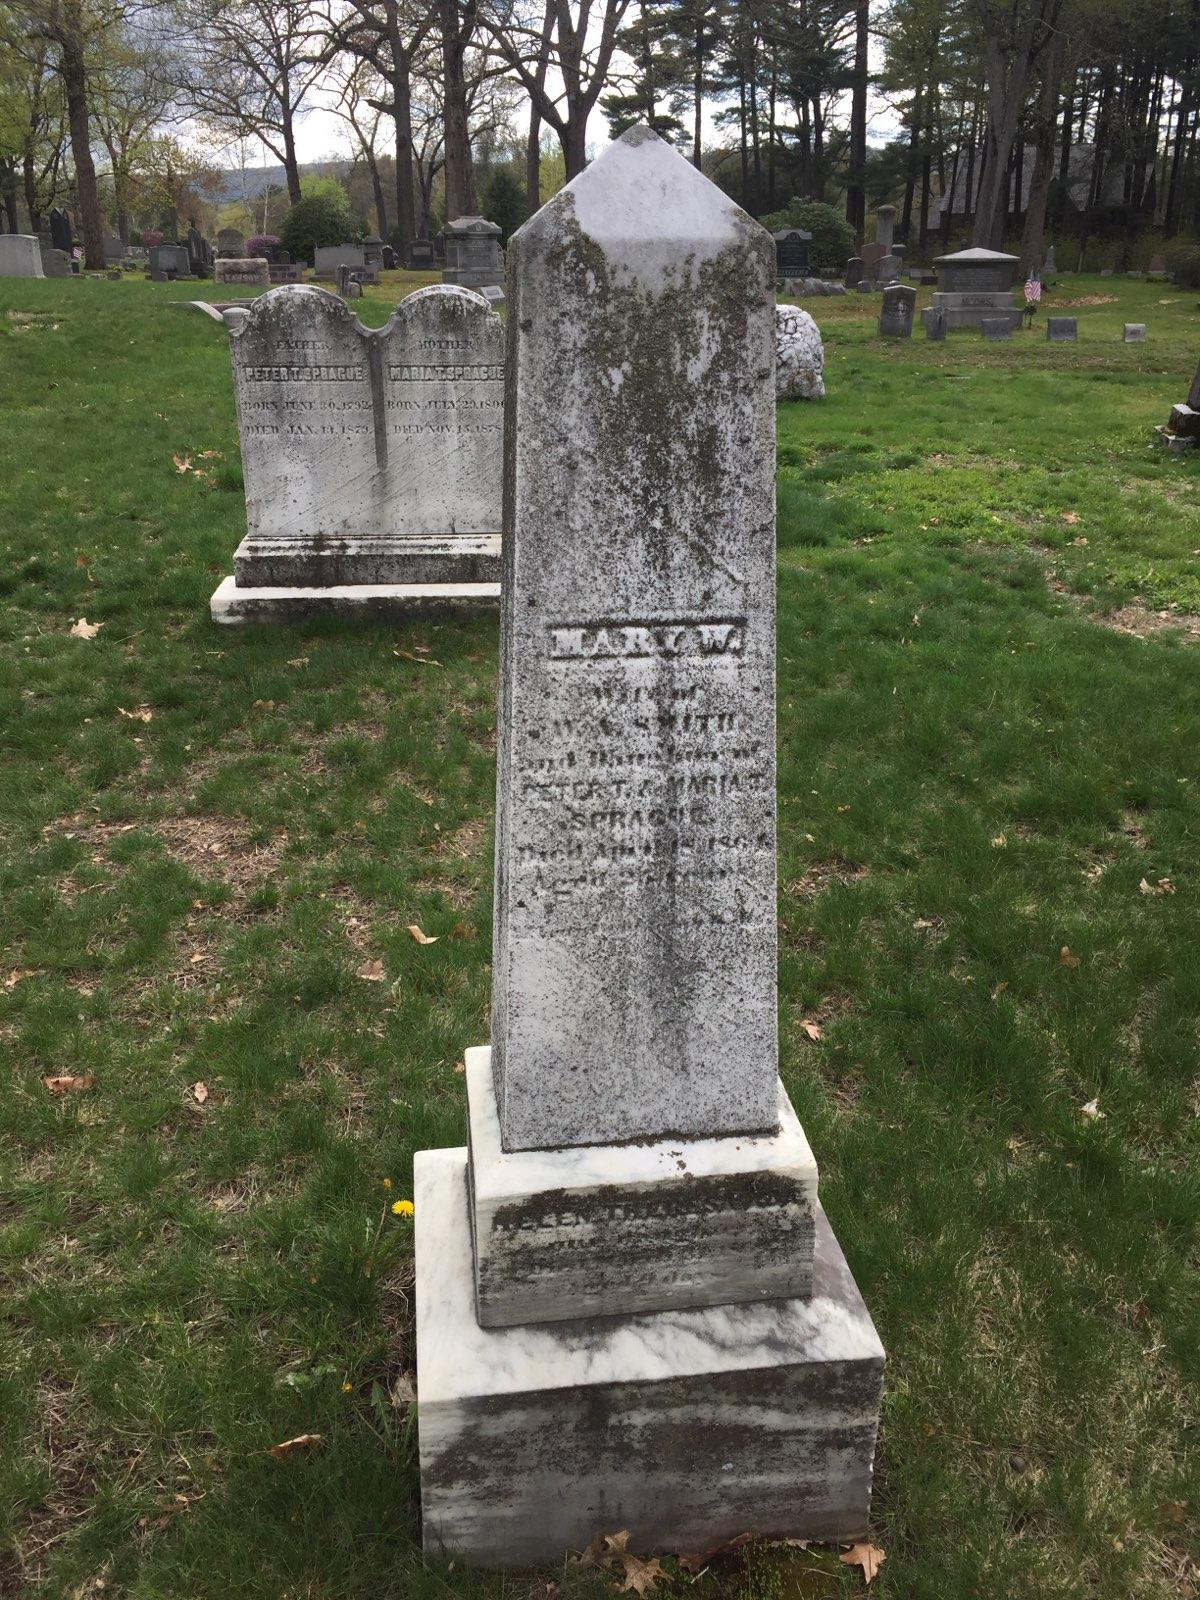obelisk: (463, 139, 826, 1322)
